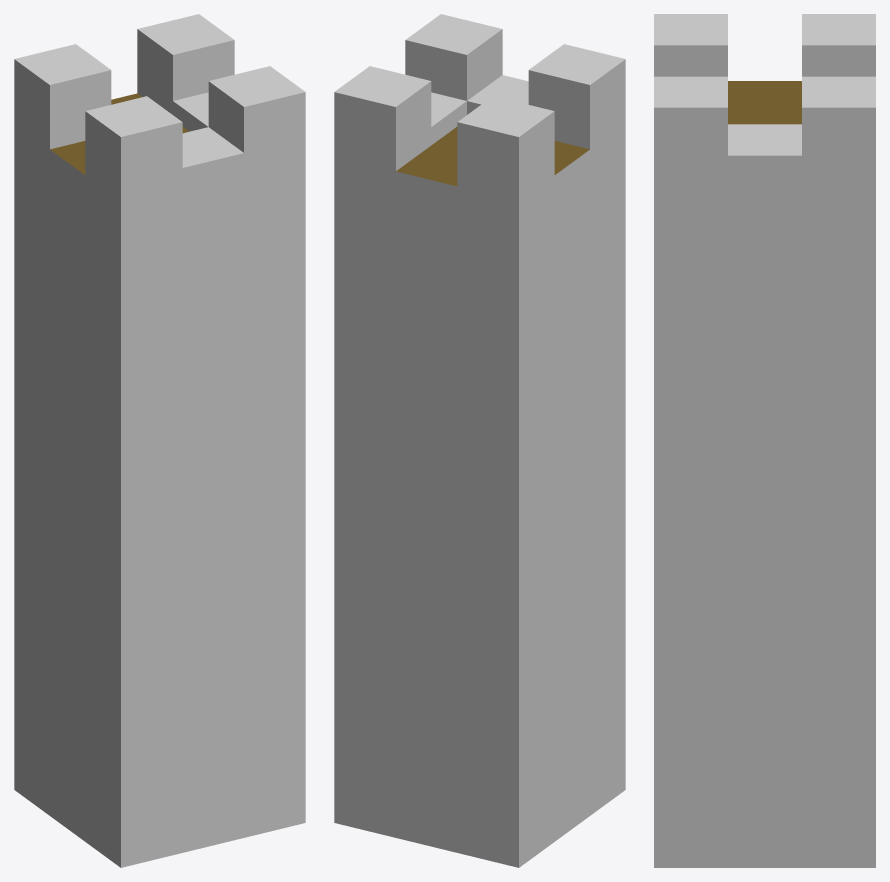
File: Brick_Wall_Turn.fbx
The picture shows the model from 3 angles, left to right: view 1: azimuth 30°, elevation 25°; view 2: azimuth 150°, elevation 25°; view 3: azimuth 270°, elevation 25°; orthographic projection. The views are drawn at different scales.
Parts seen in each view (by area): view 1: Brick_Wall_Turn; view 2: Brick_Wall_Turn; view 3: Brick_Wall_Turn.
Boxes of the visible parts, x1,y1,x2,y2 form: Brick_Wall_Turn: (14,14,305,867); Brick_Wall_Turn: (334,14,625,867); Brick_Wall_Turn: (654,14,875,867).
Size of the model in its own units: 200 by 756 by 200.
